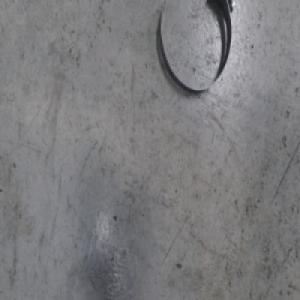AdjustableClamp: (158, 0, 237, 95)
